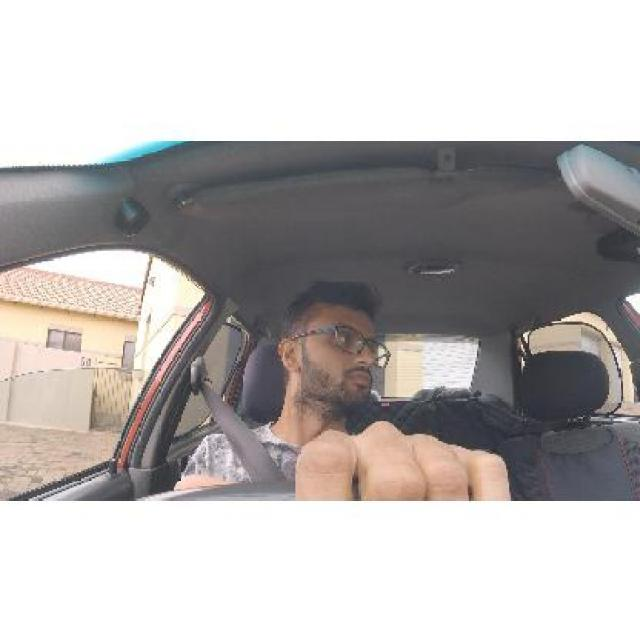LeftRight: (276, 278, 390, 414)
